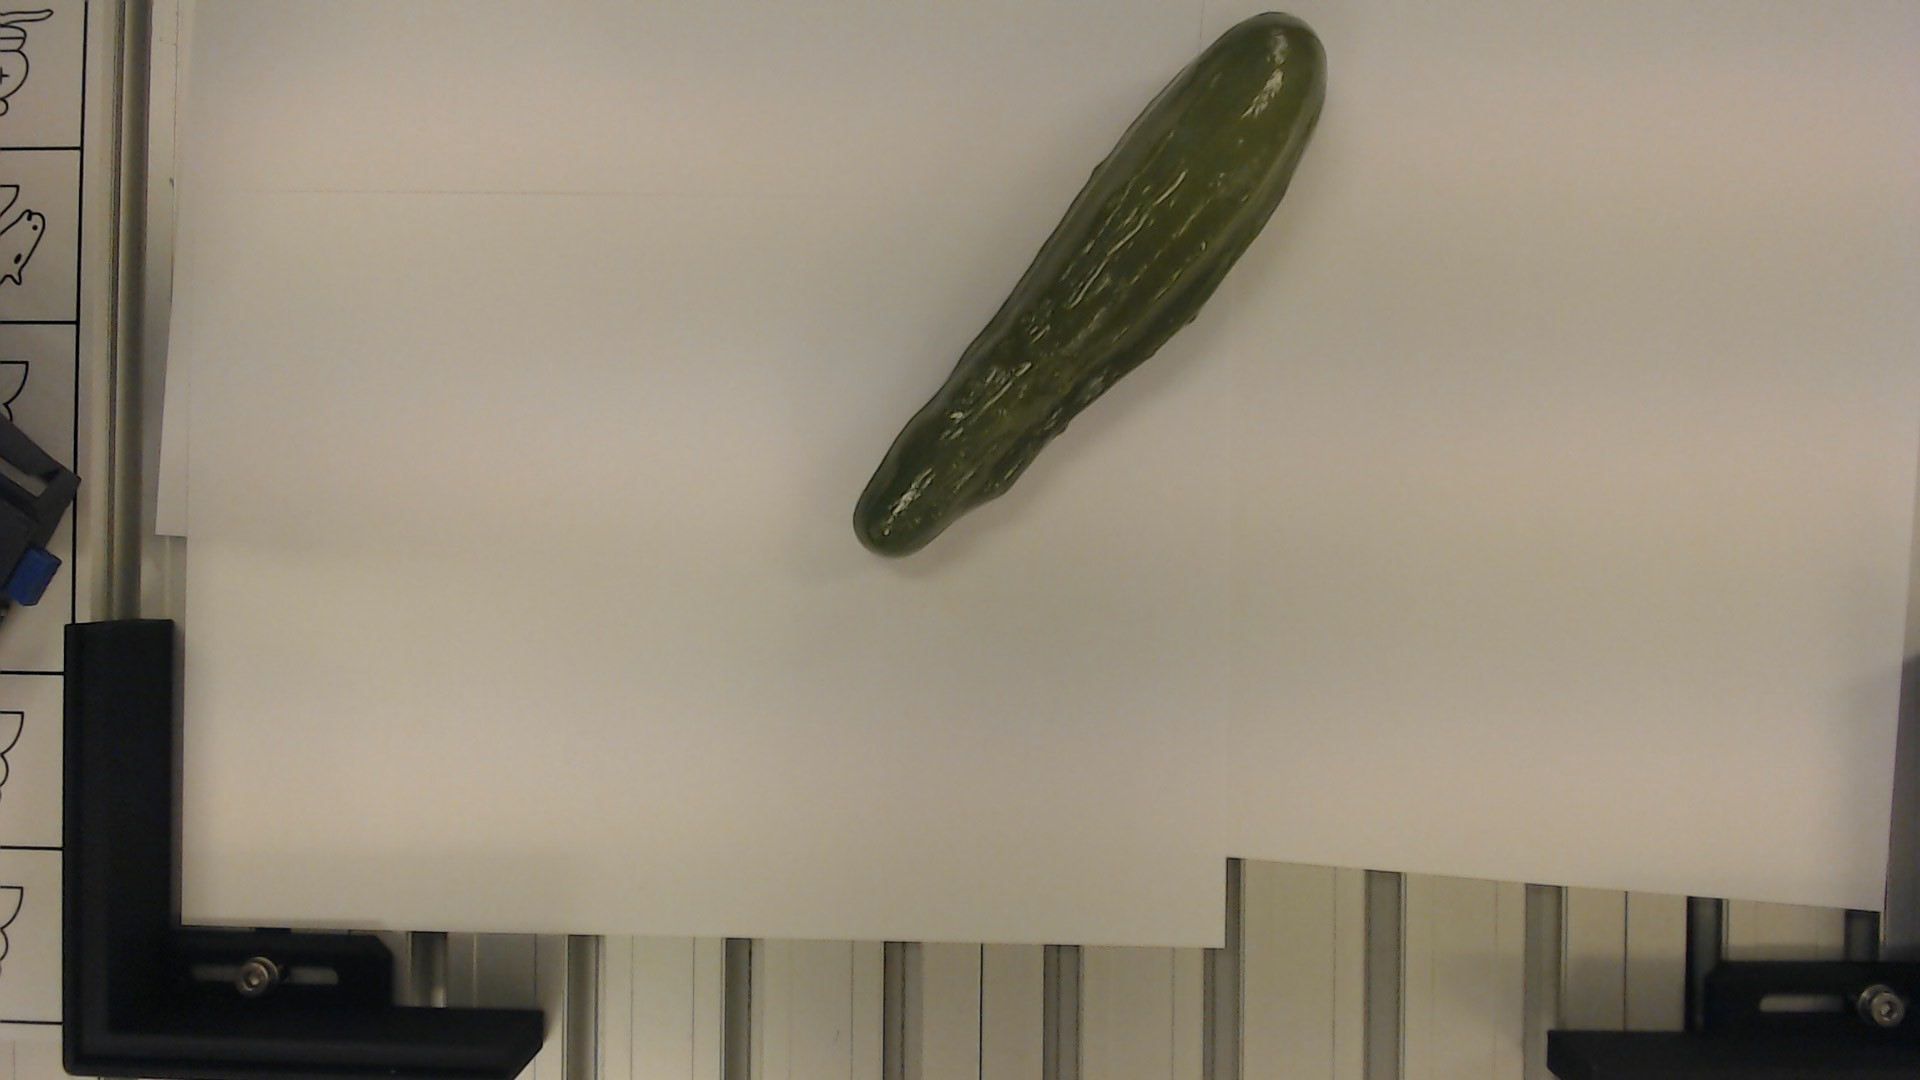Cucumber: (845, 4, 1341, 562)
